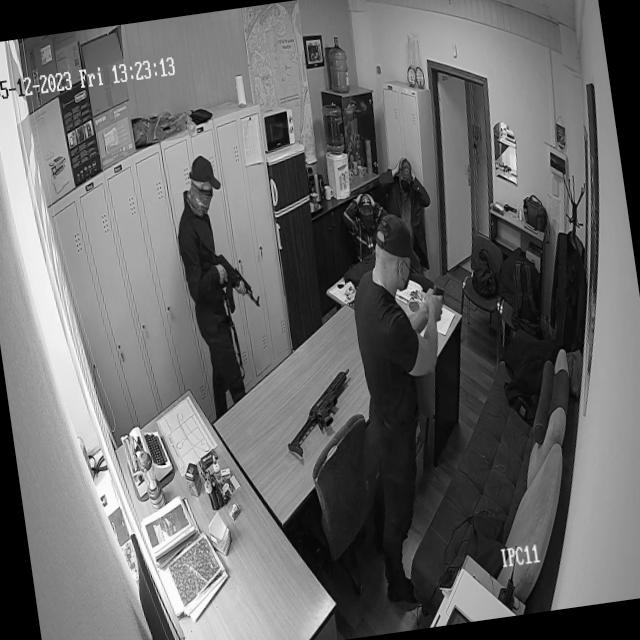gun: (193, 226, 263, 319), (433, 280, 448, 300)
person: (377, 154, 439, 255), (339, 188, 383, 226)
person with a gun: (338, 206, 484, 553), (165, 147, 271, 381)
